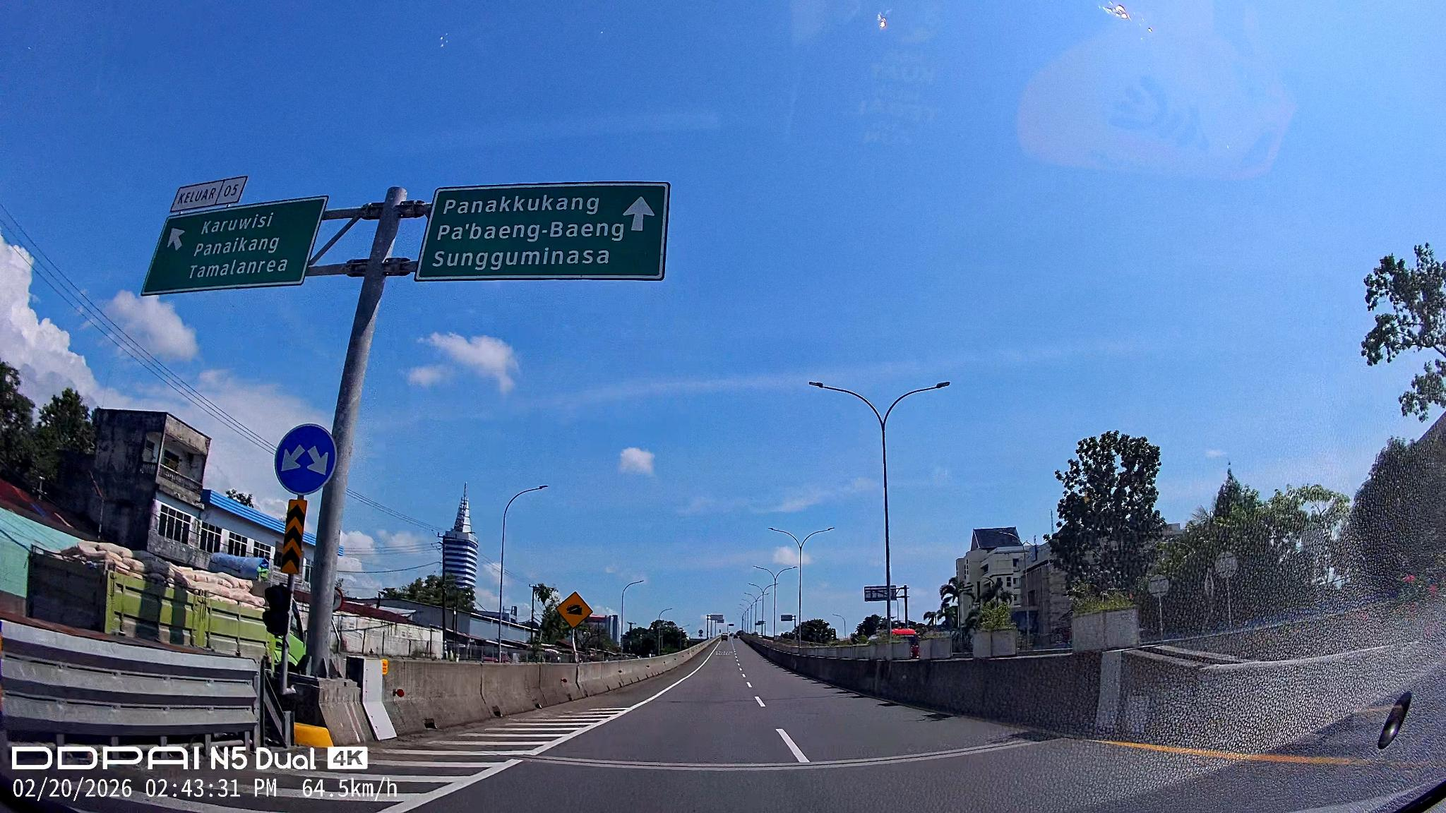rambu_teks: (414, 181, 670, 282), (138, 191, 328, 294)
